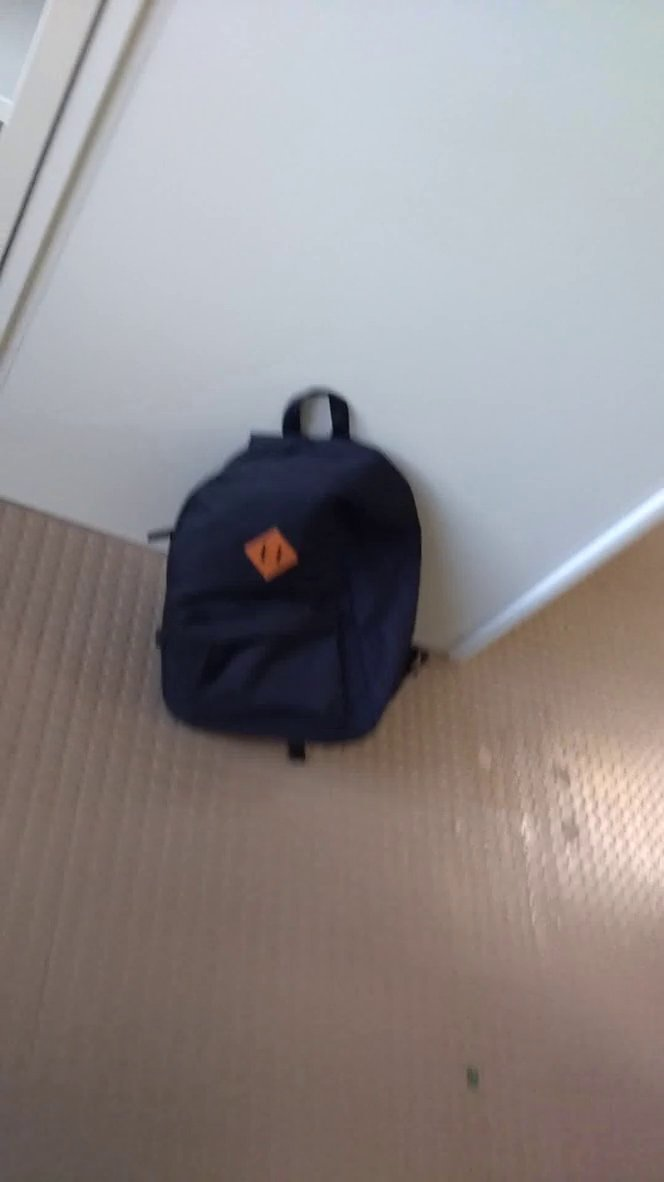bag: (137, 366, 446, 773)
